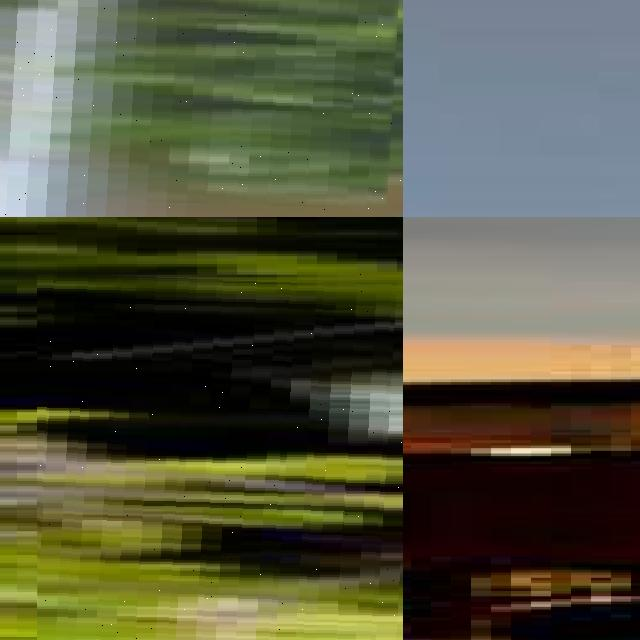street light: (37, 274, 403, 640), (0, 0, 403, 217)
